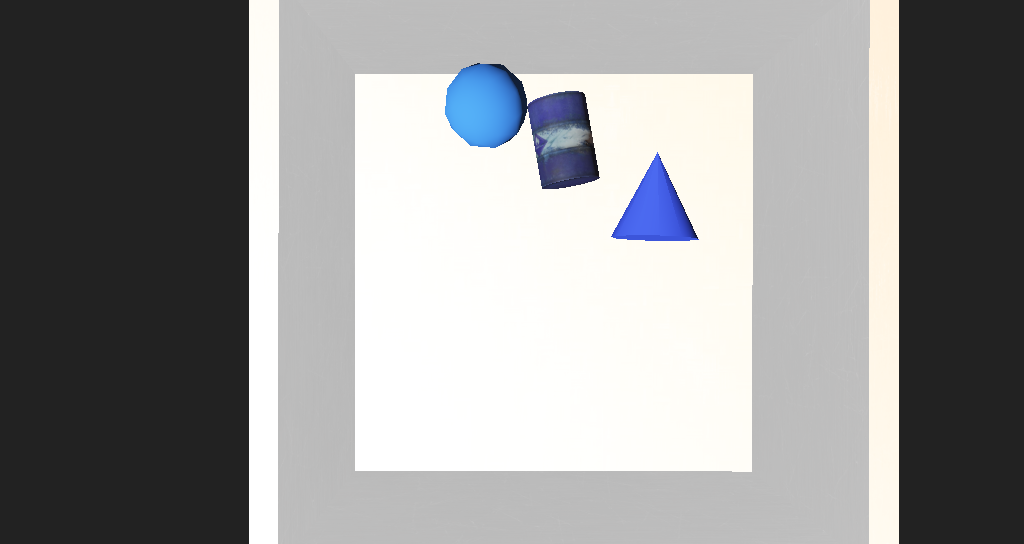cone: (485, 174, 539, 227)
cylinder: (542, 203, 630, 255)
sphere: (428, 160, 488, 203)
